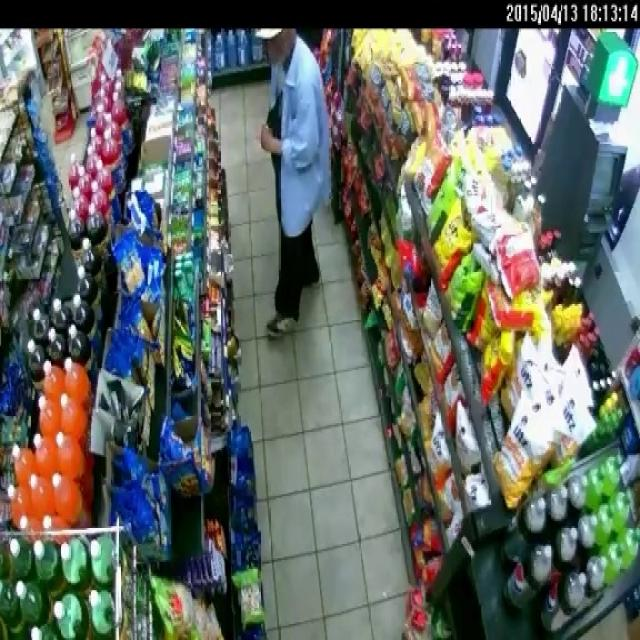normal: (233, 26, 369, 352)
